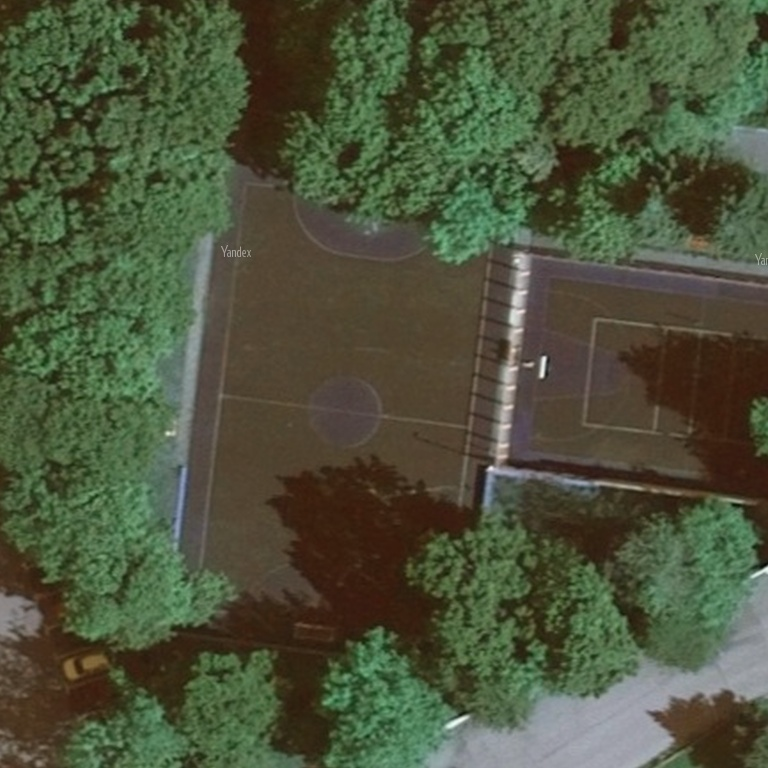basket_court: (477, 245, 768, 515)
